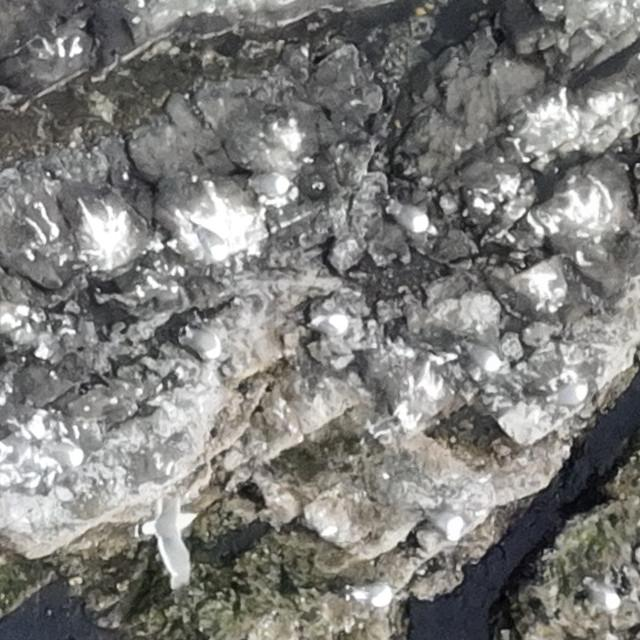F: (149, 505, 192, 583)
umineko: (423, 506, 466, 539), (389, 199, 427, 236), (463, 341, 503, 374), (40, 439, 84, 467), (196, 224, 228, 262), (584, 582, 622, 611), (182, 331, 222, 358), (245, 173, 294, 194), (547, 384, 589, 406), (354, 584, 389, 609), (312, 315, 348, 334)
